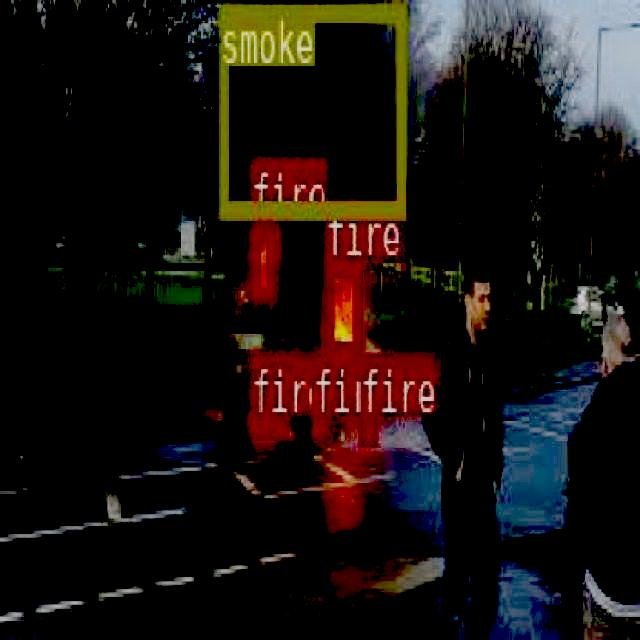fire: (322, 256, 360, 356), (248, 218, 274, 302), (248, 416, 287, 436), (358, 415, 374, 443), (310, 412, 326, 436)
smoke: (218, 1, 404, 214)
